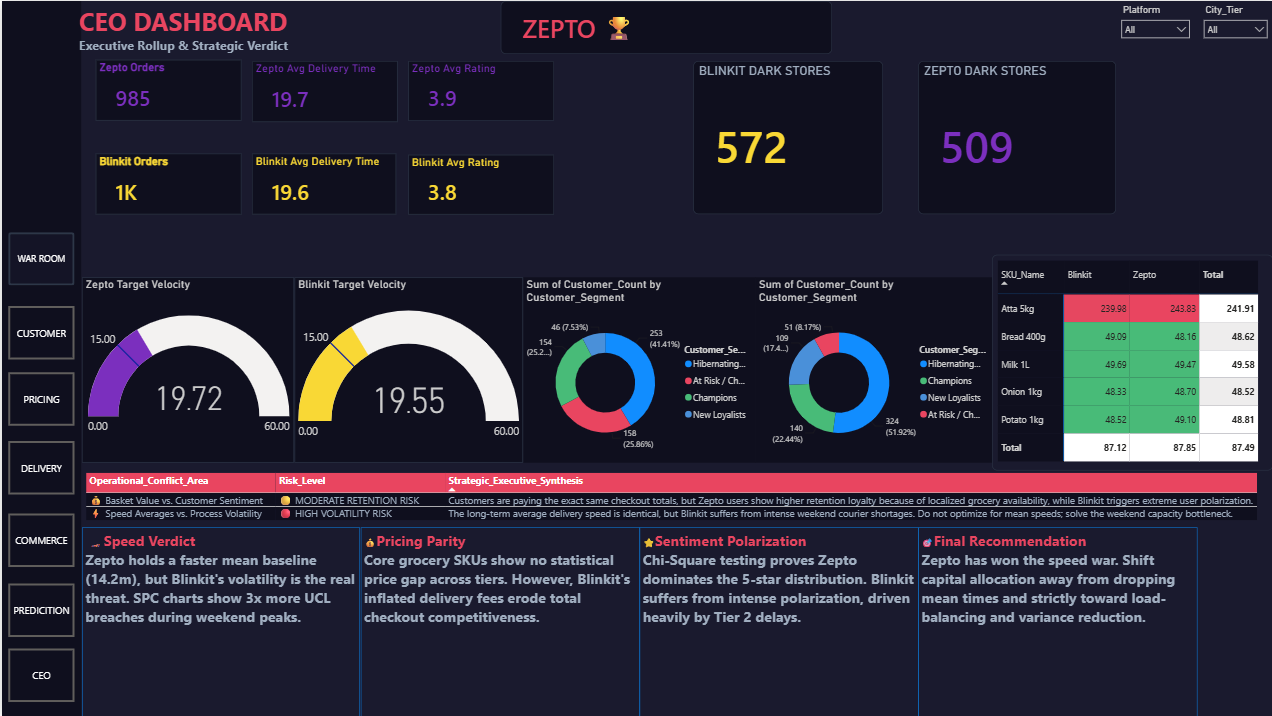

Layout of this report page (visuals, bound fields, positions):
{"tool":"powerbi","page":{"name":"07 CEO Dashboard","canvas":[1920,1080],"ordinal":6},"visuals":[{"type":"shape","box":[0,0,119.6,1080.4],"z":0},{"type":"textbox","box":[111.8,0,1217.6,111.8],"z":1000},{"type":"slicer","fields":{"Values":["3_delivery_ops_cleaned.Platform"]},"box":[1680,0,123.3,66.7],"z":2000},{"type":"slicer","fields":{"Values":["3_delivery_ops_cleaned.City_Tier"]},"box":[1803.3,0,116.7,66.7],"z":3000},{"type":"cardVisual","title":"Zepto Orders ","fields":{"Data":["Sum(phase4_ceo_master_scorecard.Total_Orders)"]},"box":[141.2,88.2,219.6,92.2],"z":4000},{"type":"cardVisual","title":"Zepto Avg Delivery Time","fields":{"Data":["Avg(phase4_ceo_master_scorecard.Avg_Delivery_Time)"]},"box":[376.5,90.2,219.6,92.2],"z":5000},{"type":"cardVisual","title":"Zepto Avg Rating","fields":{"Data":["Avg(phase4_ceo_master_scorecard.Avg_Customer_Rating)"]},"box":[613.7,90.2,219.6,90.2],"z":6000},{"type":"cardVisual","title":"Blinkit Orders ","fields":{"Data":["Sum(phase4_ceo_master_scorecard.Total_Orders)"]},"box":[141.2,229.4,219.6,92.2],"z":7000},{"type":"cardVisual","title":"Blinkit Avg Delivery Time","fields":{"Data":["Avg(phase4_ceo_master_scorecard.Avg_Delivery_Time)"]},"box":[376.5,229.4,217.6,92.2],"z":8000},{"type":"cardVisual","title":"Blinkit Avg Rating","fields":{"Data":["Avg(phase4_ceo_master_scorecard.Avg_Customer_Rating)"]},"box":[613.7,231.4,219.6,90.2],"z":9000},{"type":"donutChart","fields":{"Category":["phase5_customer_rfm.Customer_Segment"],"Y":["Sum(phase5_customer_rfm.Customer_Count)"]},"box":[786.3,417.6,351,280.4],"z":10000},{"type":"donutChart","fields":{"Category":["phase5_customer_rfm.Customer_Segment"],"Y":["Sum(phase5_customer_rfm.Customer_Count)"]},"box":[1137.3,417.6,356.9,280.4],"z":11000},{"type":"pivotTable","fields":{"Rows":["2_product_prices_cleaned.SKU_Name"],"Columns":["2_product_prices_cleaned.Platform"],"Values":["Avg(2_product_prices_cleaned.Price_INR)"]},"box":[1494.1,382.4,425.5,325.5],"z":12000},{"type":"cardVisual","fields":{"Data":["phase5_ai_forecast.Predicted_Leader"]},"box":[752.9,0,500,80.4],"z":13000},{"type":"tableEx","fields":{"Values":["phase8_statistical_contradictions.Operational_Conflict_Area","phase8_statistical_contradictions.Risk_Level","phase8_statistical_contradictions.Strategic_Executive_Synthesis"]},"box":[121.6,707.8,1798,86.3],"z":14000},{"type":"shape","box":[121.6,794.1,419.6,286.3],"z":15000},{"type":"textbox","box":[121.6,794.1,419.6,286.3],"z":16000},{"type":"shape","box":[541.2,794.1,421.6,286.3],"z":17000},{"type":"textbox","box":[541.2,794.1,419.6,286.3],"z":18000},{"type":"shape","box":[962.7,794.1,421.6,286.3],"z":19000},{"type":"shape","box":[1382.4,794.1,421.6,286.3],"z":20000},{"type":"textbox","box":[962.7,794.1,419.6,286.3],"z":21000},{"type":"textbox","box":[1382.4,794.1,421.6,286.3],"z":22000},{"type":"actionButton","box":[9.6,459.6,100,80.8],"z":23000},{"type":"actionButton","box":[9.6,559.6,100,80.8],"z":24000},{"type":"actionButton","box":[9.6,663.5,100,80.8],"z":25000},{"type":"actionButton","box":[9.6,773.1,100,80.8],"z":26000},{"type":"actionButton","box":[9.6,878.8,100,80.8],"z":27000},{"type":"actionButton","box":[9.6,976.9,100,80.8],"z":28000},{"type":"actionButton","box":[9.8,349,100,80.4],"z":29000},{"type":"cardVisual","title":"ZEPTO DARK STORES","fields":{"Data":["Sum(4_company_growth.Dark_Stores_Count)"]},"box":[1382.4,90.2,298,231.4],"z":30000},{"type":"cardVisual","title":"BLINKIT DARK STORES","fields":{"Data":["Sum(4_company_growth.Dark_Stores_Count)"]},"box":[1043.1,90.2,286.3,231.4],"z":31000},{"type":"gauge","title":"Zepto Target Velocity","fields":{"Y":["Avg(phase4_ceo_master_scorecard.Avg_Delivery_Time)"]},"box":[121.6,417.6,319.6,280.4],"z":32000},{"type":"gauge","title":"Blinkit Target Velocity","fields":{"Y":["Avg(phase4_ceo_master_scorecard.Avg_Delivery_Time)"]},"box":[441.2,417.6,345.1,280.4],"z":33000}]}

Visuals, with their boxes in screenshot pixels (x1, y1, x2, y2), scaled from the page's 1920x1080 canvas onto the 1272x716 screenshot:
shape: <box>0,0,79,715</box>
textbox: <box>74,0,881,74</box>
slicer - 3_delivery_ops_cleaned.Platform: <box>1113,0,1195,44</box>
slicer - 3_delivery_ops_cleaned.City_Tier: <box>1195,0,1271,44</box>
"Zepto Orders " cardVisual: <box>94,58,239,120</box>
"Zepto Avg Delivery Time" cardVisual: <box>249,60,395,121</box>
"Zepto Avg Rating" cardVisual: <box>407,60,552,120</box>
"Blinkit Orders " cardVisual: <box>94,152,239,213</box>
"Blinkit Avg Delivery Time" cardVisual: <box>249,152,394,213</box>
"Blinkit Avg Rating" cardVisual: <box>407,153,552,213</box>
donutChart - phase5_customer_rfm.Customer_Segment x Sum(phase5_customer_rfm.Customer_Count): <box>521,277,753,463</box>
donutChart - phase5_customer_rfm.Customer_Segment x Sum(phase5_customer_rfm.Customer_Count): <box>753,277,990,463</box>
pivotTable - 2_product_prices_cleaned.SKU_Name x 2_product_prices_cleaned.Platform: <box>990,254,1271,469</box>
cardVisual - phase5_ai_forecast.Predicted_Leader: <box>499,0,830,53</box>
tableEx - phase8_statistical_contradictions.Operational_Conflict_Area x phase8_statistical_contradictions.Risk_Level: <box>81,469,1271,526</box>
shape: <box>81,526,359,715</box>
textbox: <box>81,526,359,715</box>
shape: <box>359,526,638,715</box>
textbox: <box>359,526,637,715</box>
shape: <box>638,526,917,715</box>
shape: <box>916,526,1195,715</box>
textbox: <box>638,526,916,715</box>
textbox: <box>916,526,1195,715</box>
actionButton: <box>6,305,73,358</box>
actionButton: <box>6,371,73,425</box>
actionButton: <box>6,440,73,493</box>
actionButton: <box>6,513,73,566</box>
actionButton: <box>6,583,73,636</box>
actionButton: <box>6,648,73,701</box>
actionButton: <box>6,231,73,285</box>
"ZEPTO DARK STORES" cardVisual: <box>916,60,1113,213</box>
"BLINKIT DARK STORES" cardVisual: <box>691,60,881,213</box>
"Zepto Target Velocity" gauge: <box>81,277,292,463</box>
"Blinkit Target Velocity" gauge: <box>292,277,521,463</box>
